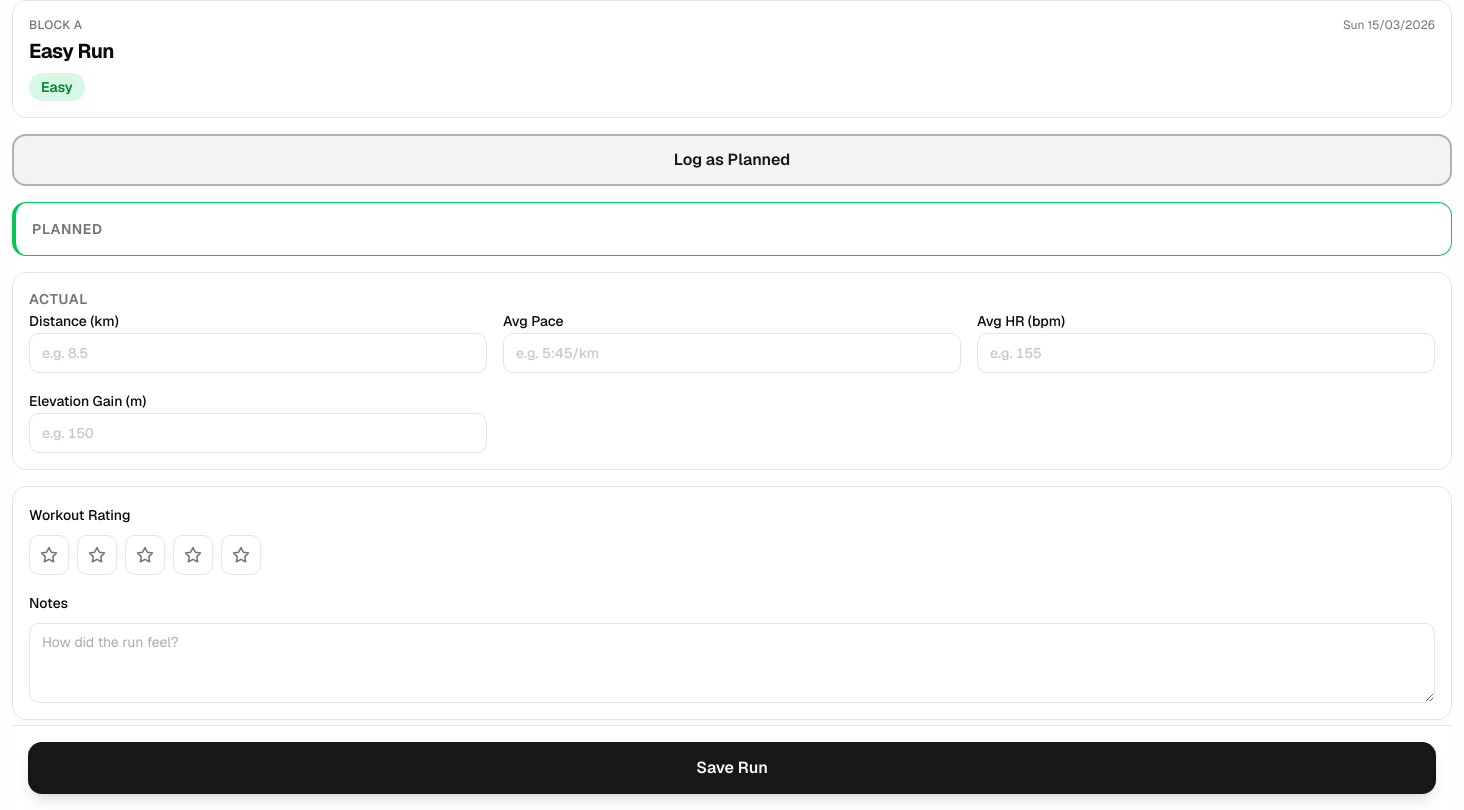
Test: RunningLoggingForm — characterization › shows success message after successful save
Click the button with test id "save-running-btn" at (732, 768), box left=28, top=742, right=1436, bottom=794
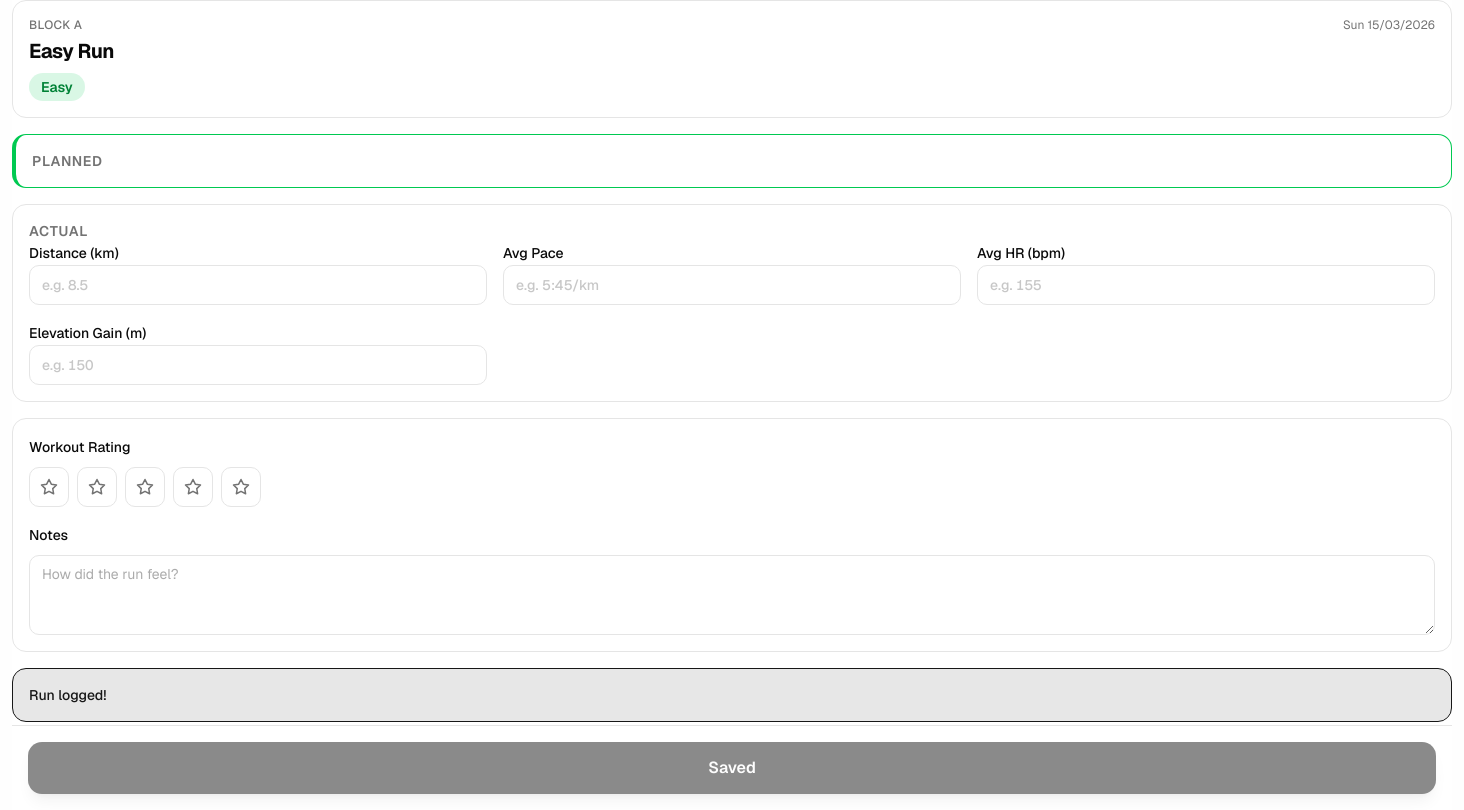
Result: the element with test id "save-success" is shown at left=12, top=668, right=1452, bottom=722
Result: the text "Run logged!" is shown at left=29, top=686, right=106, bottom=704
